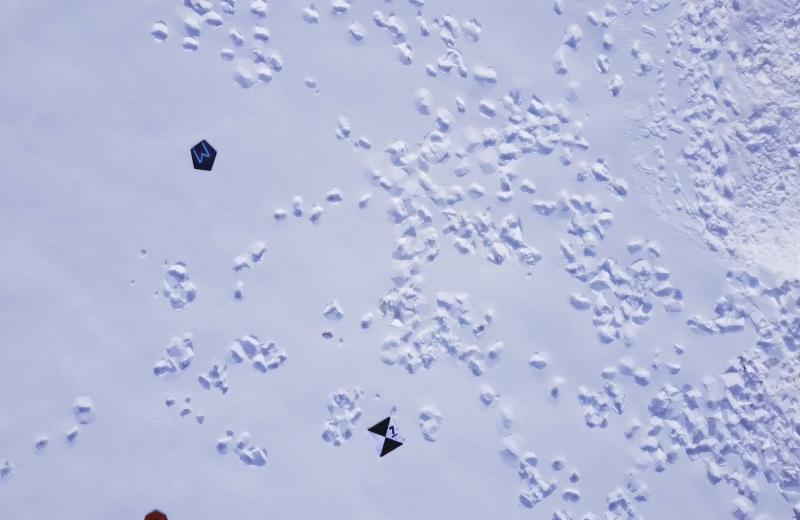Octagon: (142, 507, 169, 520)
Pentagon: (186, 136, 219, 176)
